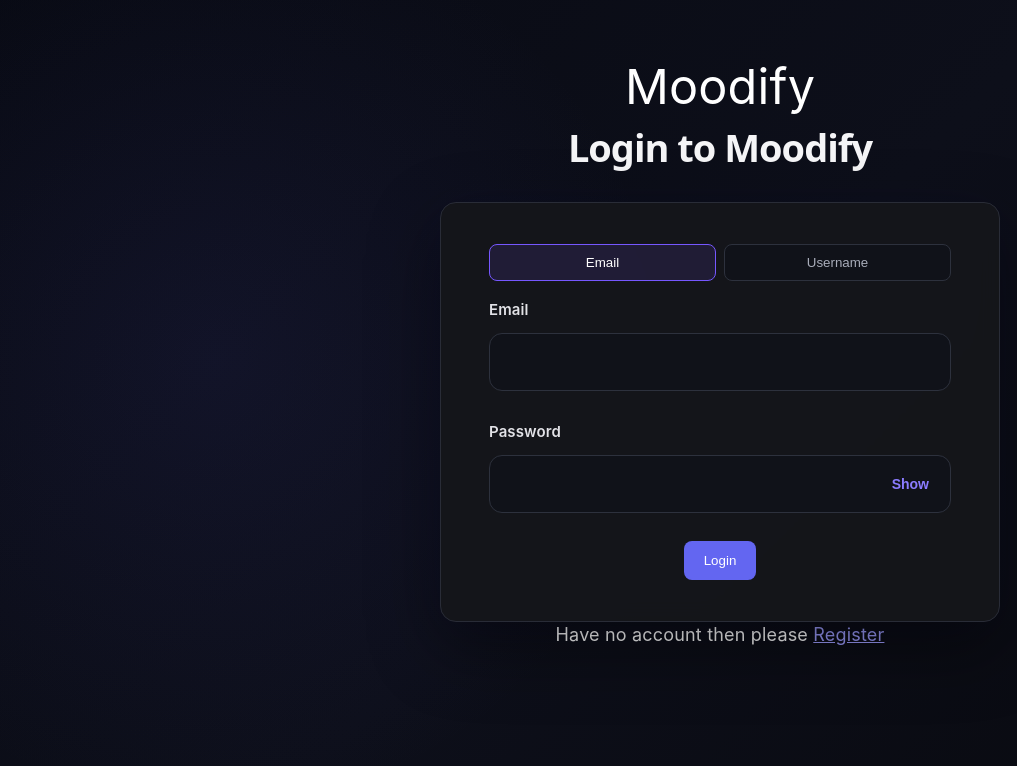
Test: Login page › shows an authentication error and stays on the login page
Type "member@example.com" into the field labelled "Email" at (720, 362), box x1=489 y1=333 x2=951 y2=391
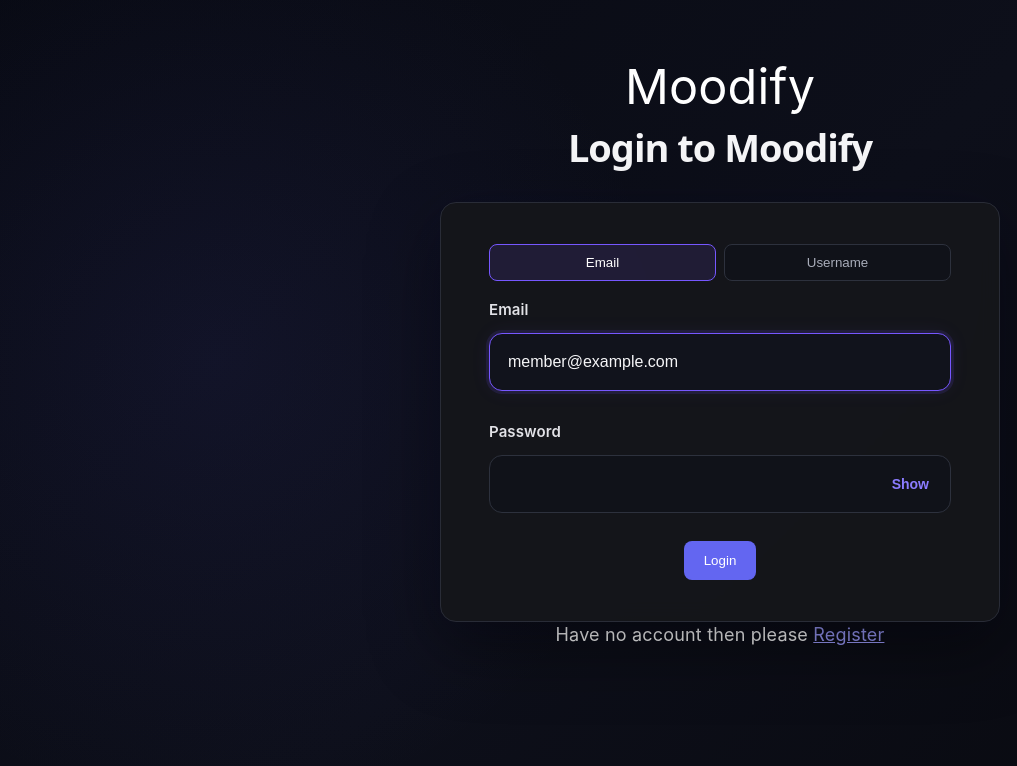
Type "wrong-password" into the password field labelled "Password" at (720, 484), box x1=489 y1=455 x2=951 y2=513
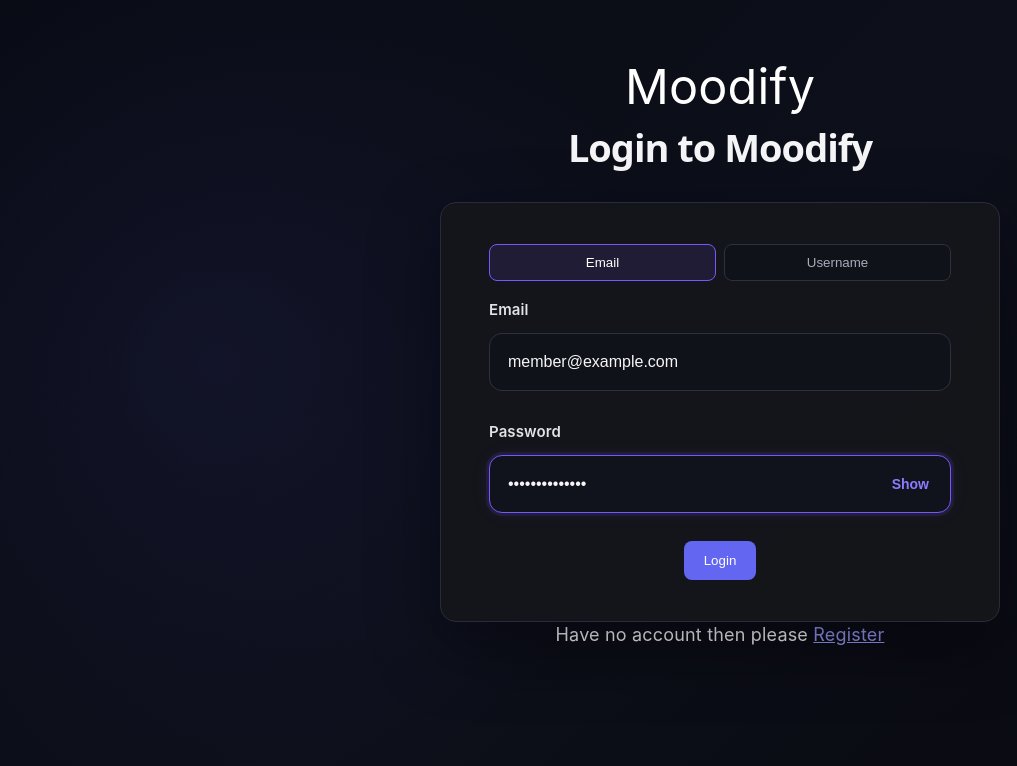
Click the button "Login" at (720, 560), box x1=684 y1=541 x2=756 y2=580
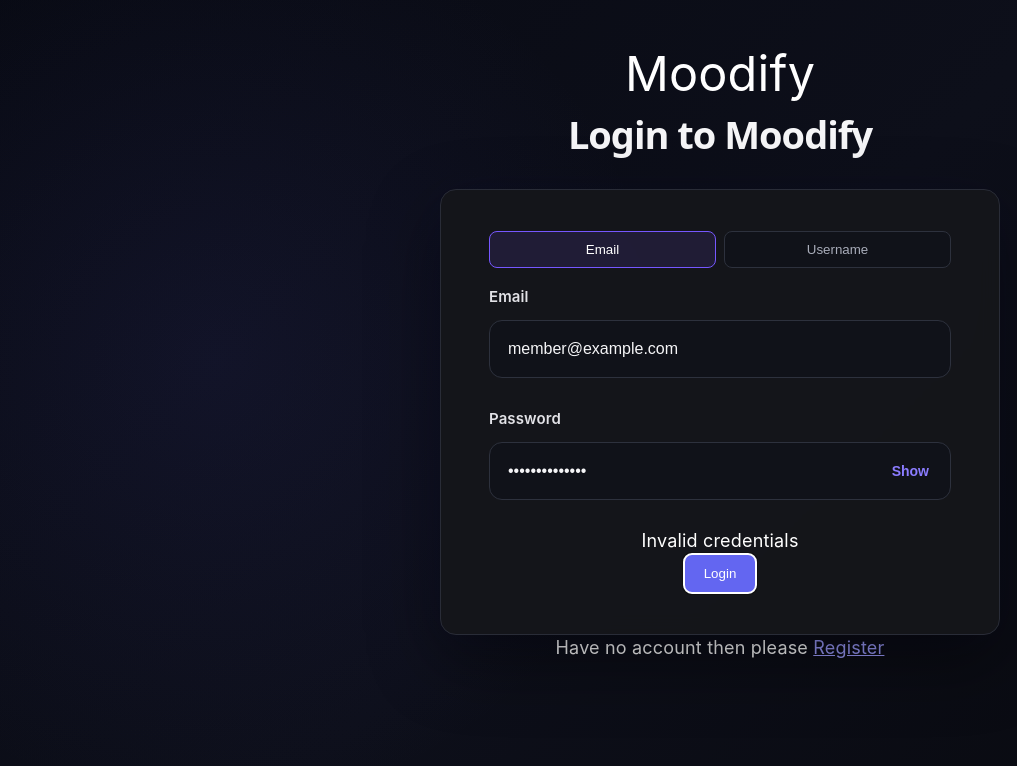
Now the message reads "Invalid credentials", box x1=641 y1=530 x2=799 y2=551
